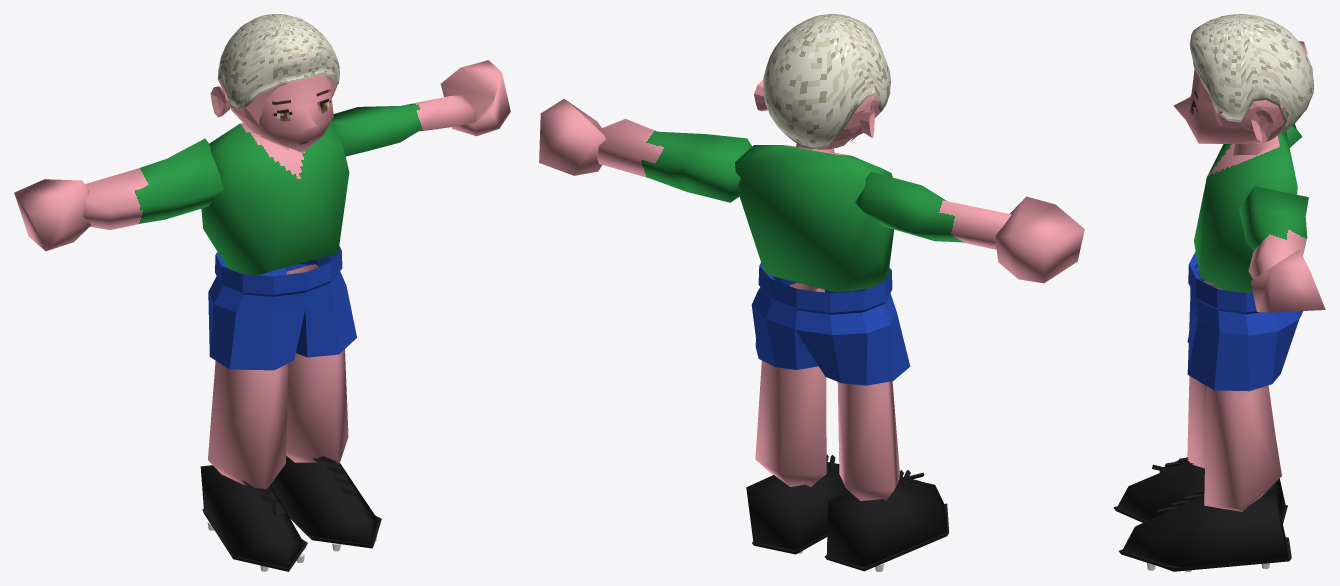
File: 03-raspado_loiro-pintado.glb
3 views of the same model, side by side, from view 1: azimuth 30°, elevation 25°; view 2: azimuth 150°, elevation 25°; view 3: azimuth 270°, elevation 25° (orthographic). The views are drawn at different scales.
Parts seen in each view (by area): view 1: Camisa_Tronco, Bermuda, Perna.R, Braco.R, Cabelo, Perna.L, Chuteira.R, Chuteira.L, Braco.L, Cabeca, Mao.R, Mao.L (+4 smaller); view 2: Camisa_Tronco, Bermuda, Cabelo, Perna.L, Braco.L, Chuteira.R, Perna.R, Braco.R, Mao.R, Chuteira.L, Mao.L, Cranio (+1 smaller); view 3: Cabelo, Bermuda, Chuteira.L, Camisa_Tronco, Perna.L, Braco.L, Mao.L, Chuteira.R, Cabeca, Perna.R, Cranio, Chuteira_Sola.L (+4 smaller).
Part boxes in pixels (x1,y1,x2,y2): Camisa_Tronco: (201,123,349,275); Bermuda: (208,246,356,370); Perna.R: (208,361,288,493); Braco.R: (83,138,223,230); Cabelo: (217,14,339,109); Perna.L: (286,264,348,464); Chuteira.R: (200,465,305,567); Chuteira.L: (271,456,377,544); Braco.L: (330,95,476,156); Cabeca: (235,74,333,152); Mao.R: (14,179,90,251); Mao.L: (440,60,510,136); Camisa_Tronco: (735,145,893,292); Bermuda: (751,262,910,385); Cabelo: (762,14,890,149); Perna.L: (755,282,826,486); Braco.L: (597,119,752,202); Chuteira.R: (827,477,946,566); Perna.R: (837,381,899,500); Braco.R: (855,172,1011,249); Mao.R: (995,196,1084,283); Chuteira.L: (746,462,849,550); Mao.L: (539,99,606,175); Cranio: (814,91,890,149); Cabelo: (1189,14,1313,134); Bermuda: (1187,251,1303,391); Chuteira.L: (1122,490,1288,571); Camisa_Tronco: (1194,131,1297,292); Perna.L: (1204,385,1281,511); Braco.L: (1239,186,1308,279); Mao.L: (1250,249,1325,312); Chuteira.R: (1117,461,1285,520); Cabeca: (1173,68,1266,143); Perna.R: (1187,280,1274,468); Cranio: (1190,40,1296,144); Chuteira_Sola.L: (1119,537,1291,571).
Bounding box in the file's own units: 0.4523 × 0.4415 × 0.1617.
Materials: 3 (3 with a texture image).
